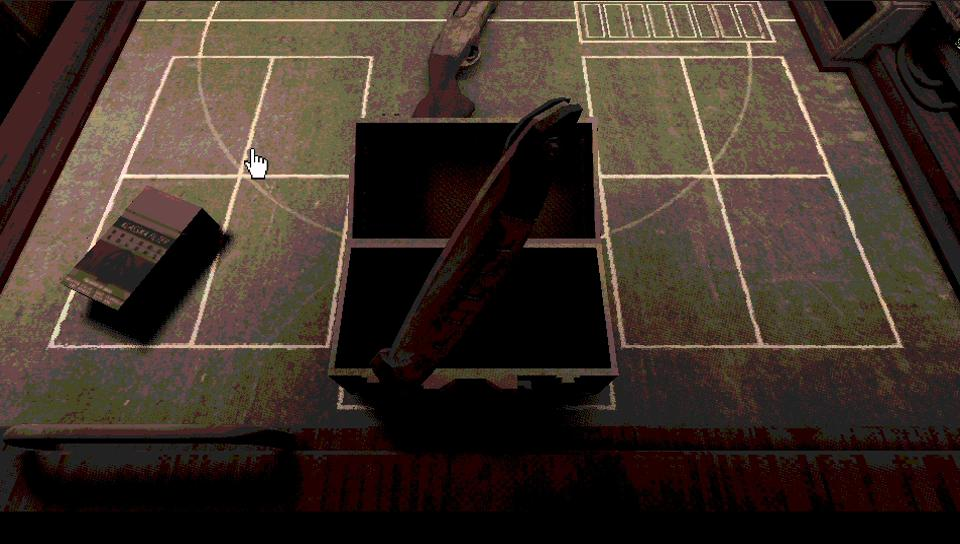ally: (0, 13, 959, 450)
emptyspace: (726, 181, 899, 346), (195, 176, 348, 346), (609, 173, 759, 343), (684, 54, 831, 175), (124, 55, 272, 173), (235, 54, 369, 180), (585, 53, 717, 175)
gun: (412, 0, 498, 116)
inventorybox: (331, 119, 615, 387)
